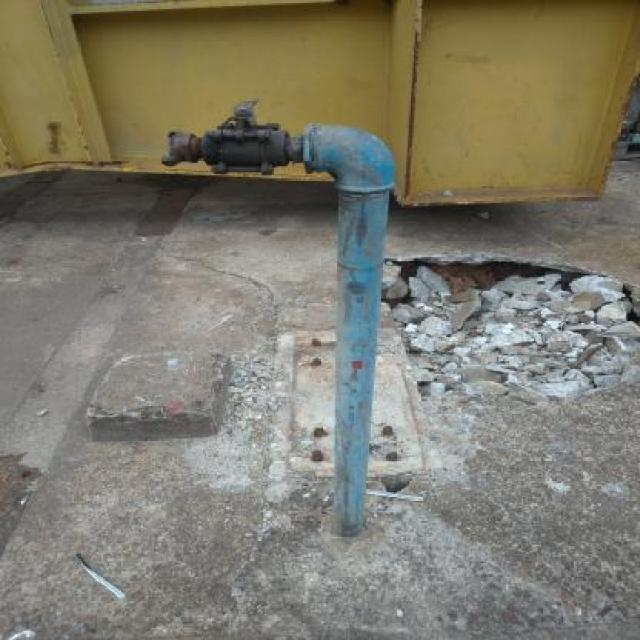gas: (307, 126, 391, 532)
